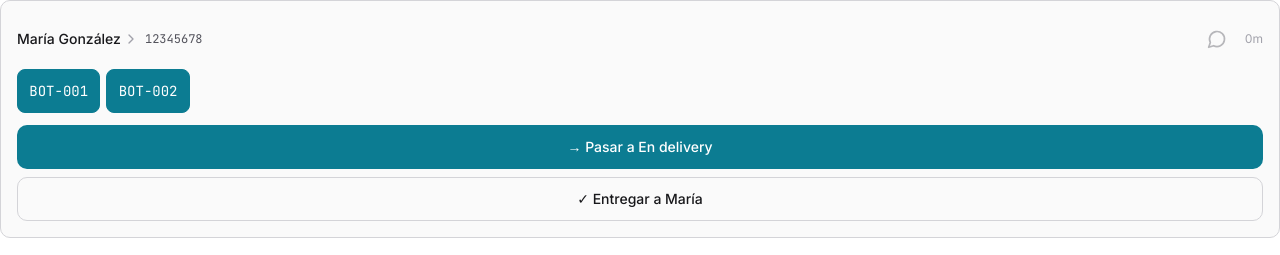
Scenario: GrupoCard — listo dual actions (manual pickup) › disables both actions when nothing is marked (Elegí al menos un botellón)
Click the button "BOT-001" at (59, 91), box [17,69,100,113]
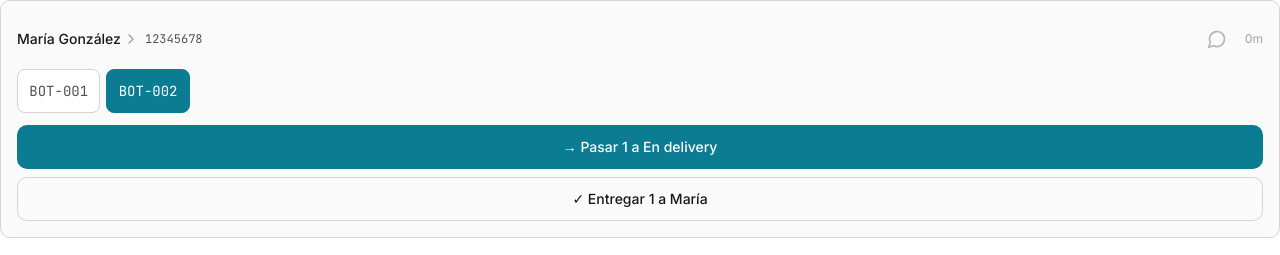
Click the button "BOT-002" at (148, 91), box [106,69,190,113]
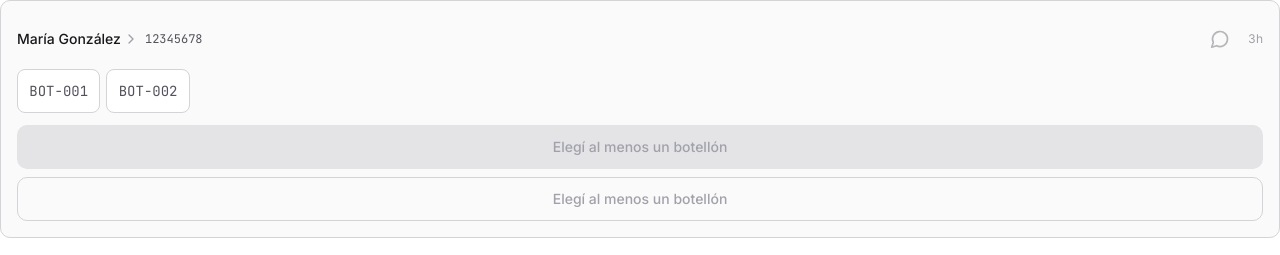
Expected: the number of buttons "Elegí al menos un botellón" is 2, [17,125,1263,169]; [17,177,1263,221]
Now the 1st button "Elegí al menos un botellón" is disabled, box [17,125,1263,169]
Now the 2nd button "Elegí al menos un botellón" is disabled, box [17,177,1263,221]
